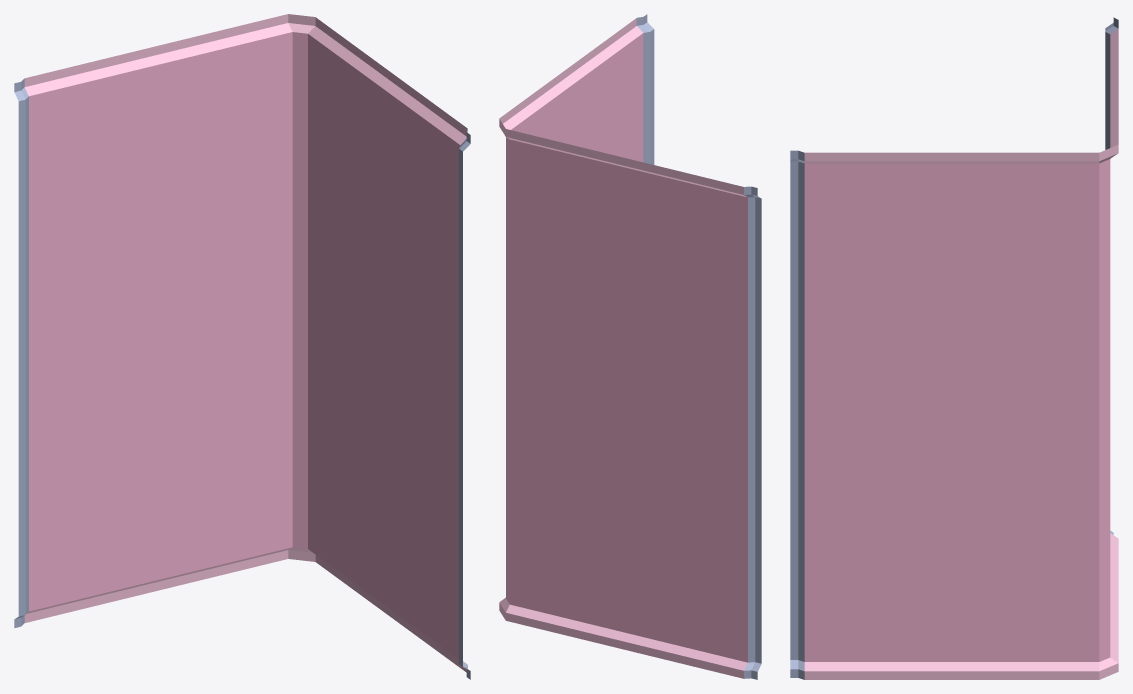
Rendered from WallPanel_Corner_Out.fbx.
3 views of the same model, side by side, from view 1: azimuth 30°, elevation 25°; view 2: azimuth 150°, elevation 25°; view 3: azimuth 270°, elevation 25° (orthographic). The views are drawn at different scales.
Parts seen in each view (by area): view 1: WallPanel_Corner_Out; view 2: WallPanel_Corner_Out; view 3: WallPanel_Corner_Out.
Part boxes in pixels (<box>): WallPanel_Corner_Out: <box>14,14,470,679</box>; WallPanel_Corner_Out: <box>499,14,761,679</box>; WallPanel_Corner_Out: <box>790,17,1118,679</box>.
Size of the model in its own units: 203 by 360 by 203.
1 material, 1 textured.
